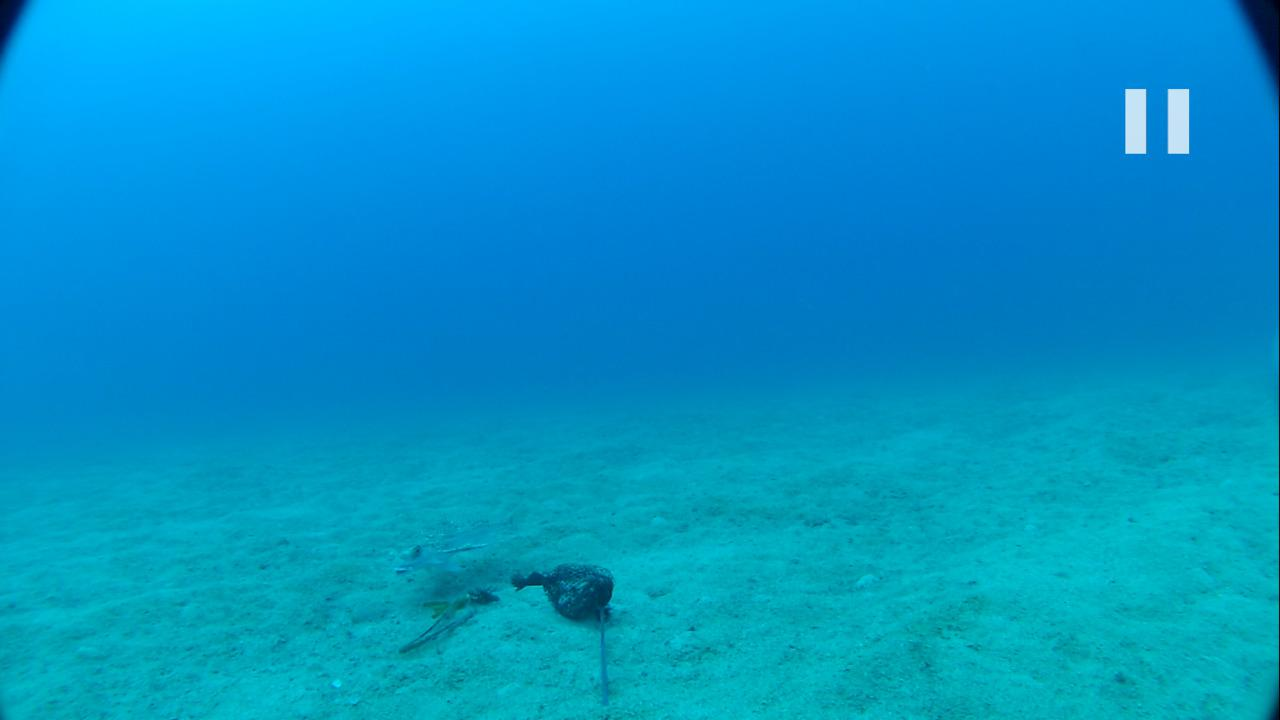dactylopterus: (388, 526, 516, 594)
